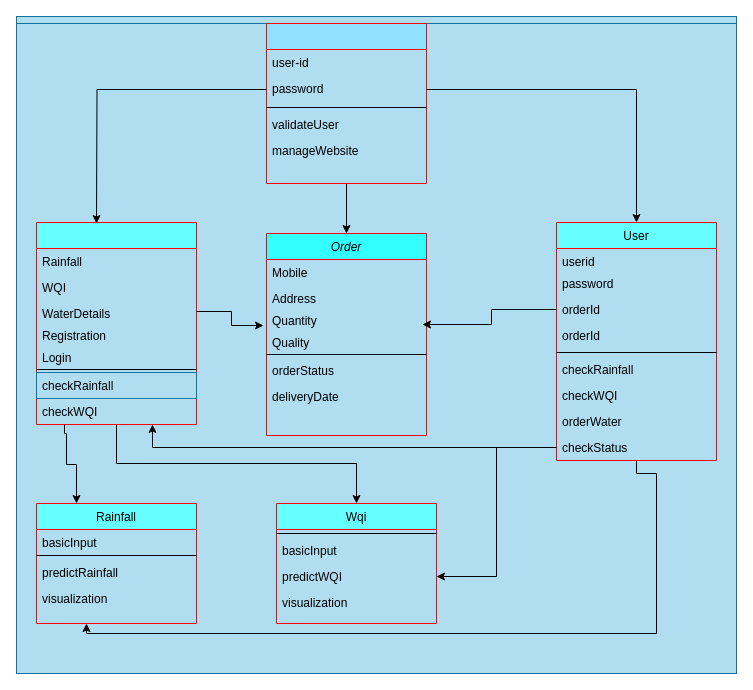
The diagram is 753 pixels wide and 690 high, and some of its shapes have lost their labels. The shapes that lost their labels are listed below. From the top down, each one's box as (x1, y1, x2, y2) in pixels, then its label:
(266, 22, 426, 184): Admin
(36, 222, 196, 424): Home
